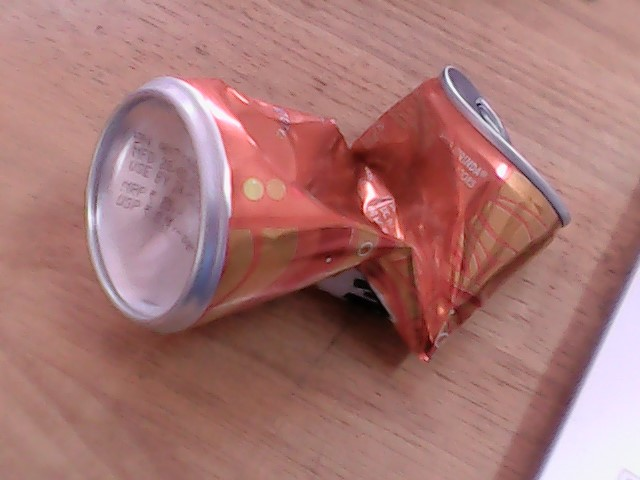Metal: (84, 79, 564, 351)
